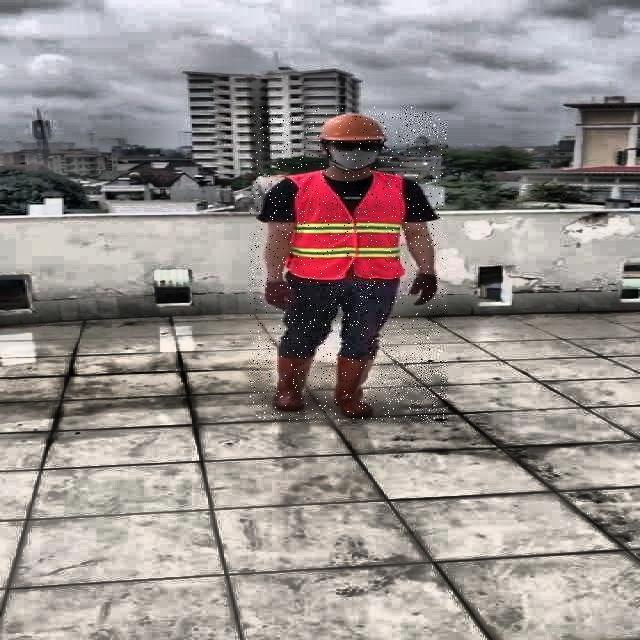safety_helmet: (318, 112, 392, 144)
safety_jacket: (286, 171, 407, 280)
